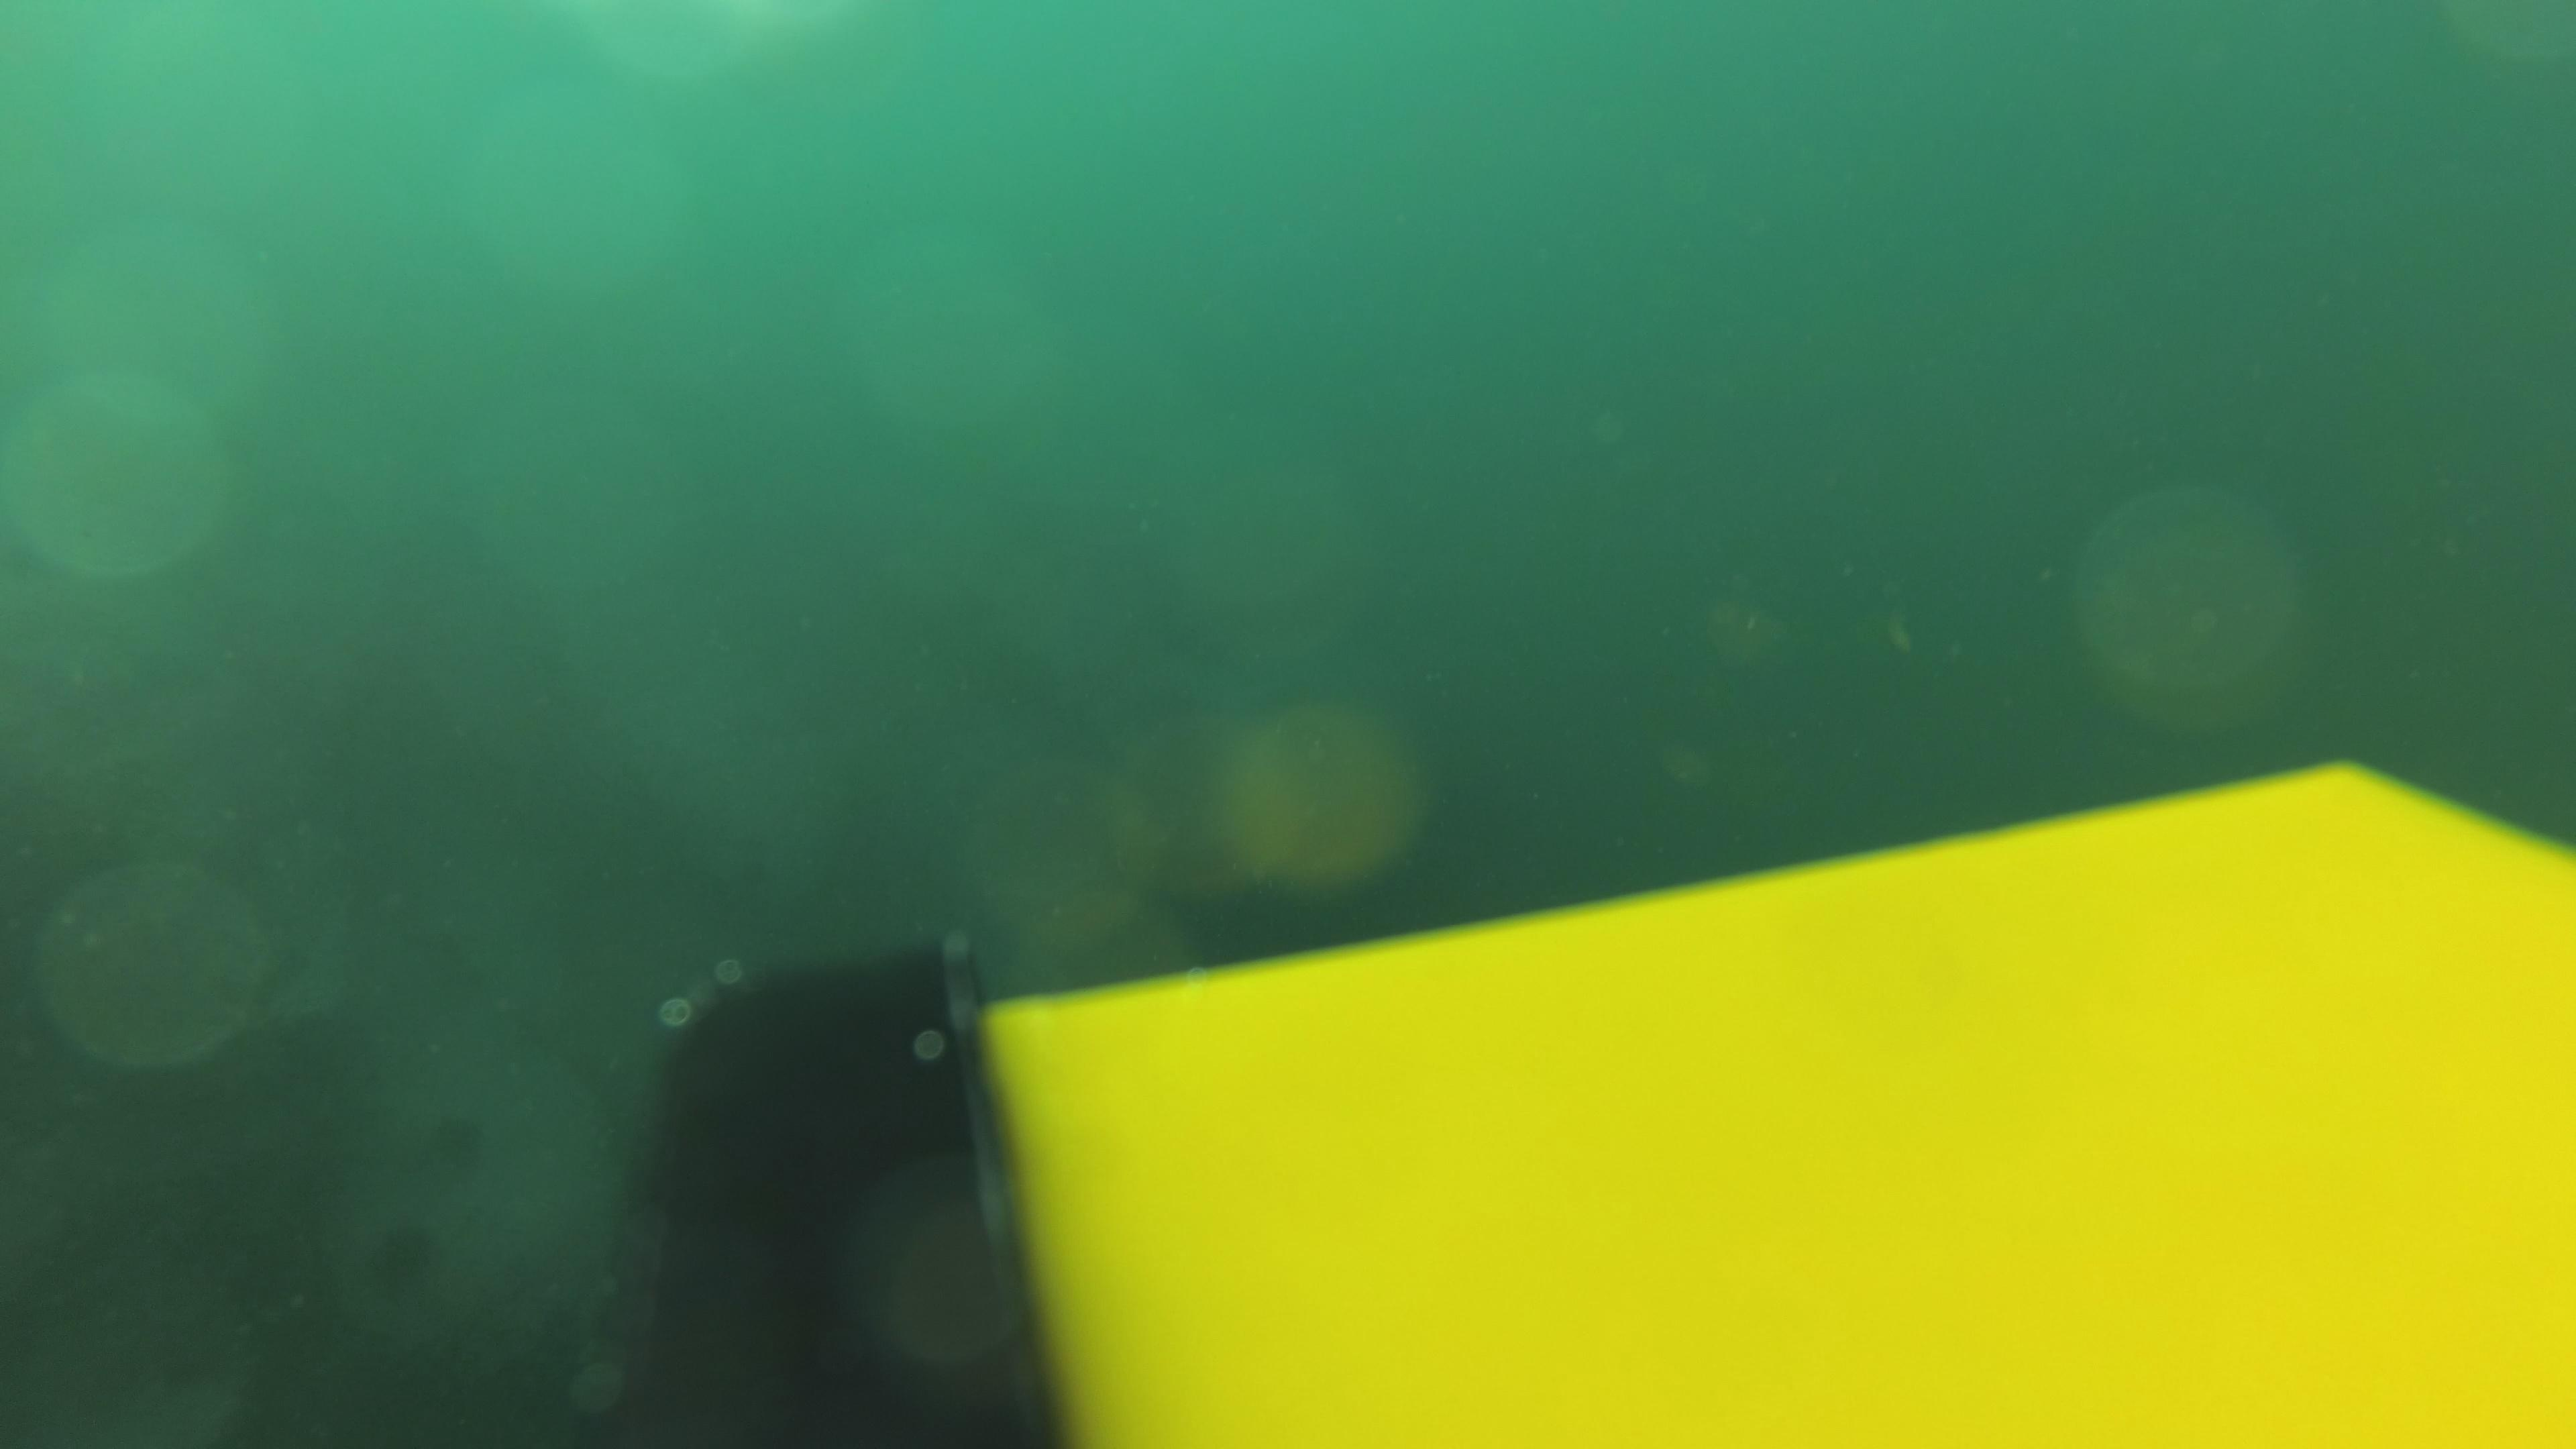echinus: (361, 1215, 446, 1297), (419, 1104, 494, 1180)
